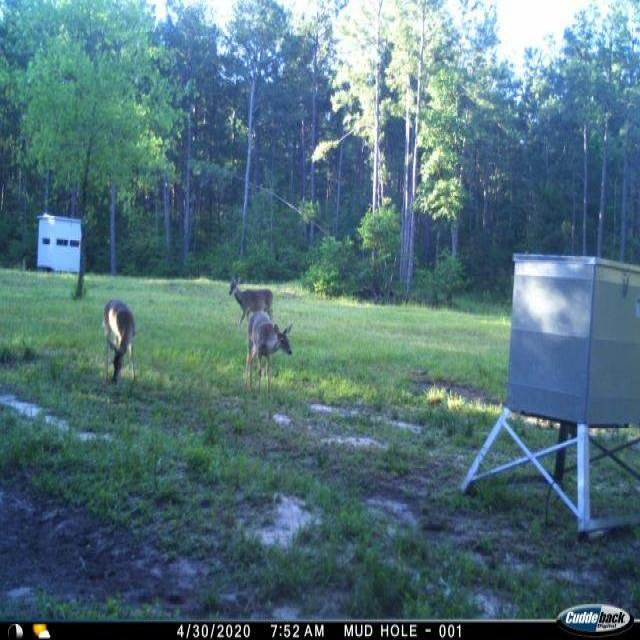deer: (244, 308, 294, 401), (101, 294, 146, 394), (228, 274, 278, 330)
